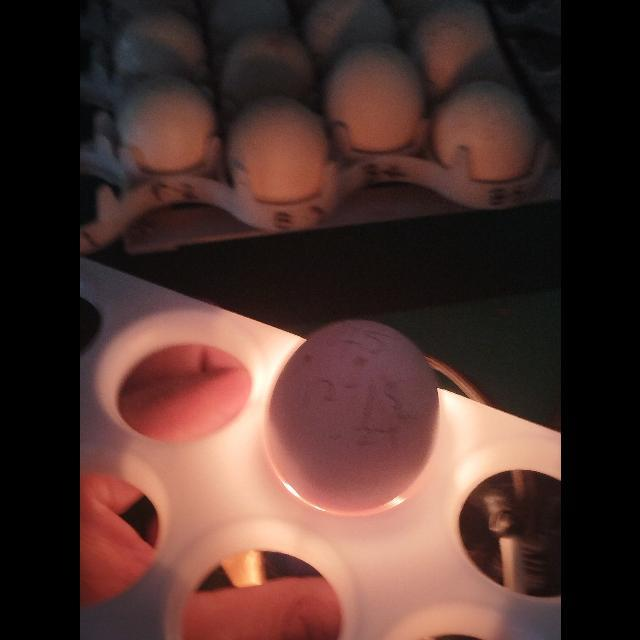B - Fair: (271, 319, 439, 503)
